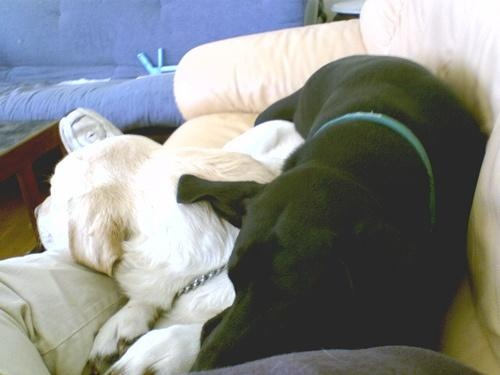dog: (179, 53, 474, 375), (36, 138, 277, 368)
sofa: (3, 3, 500, 375), (1, 1, 323, 132)
